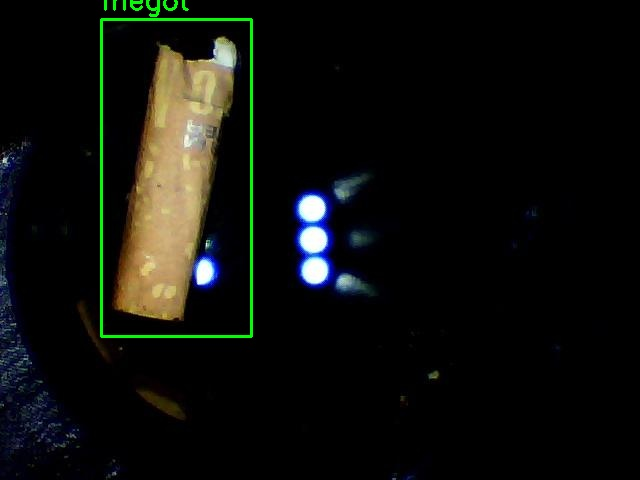megot: (101, 19, 251, 336)
